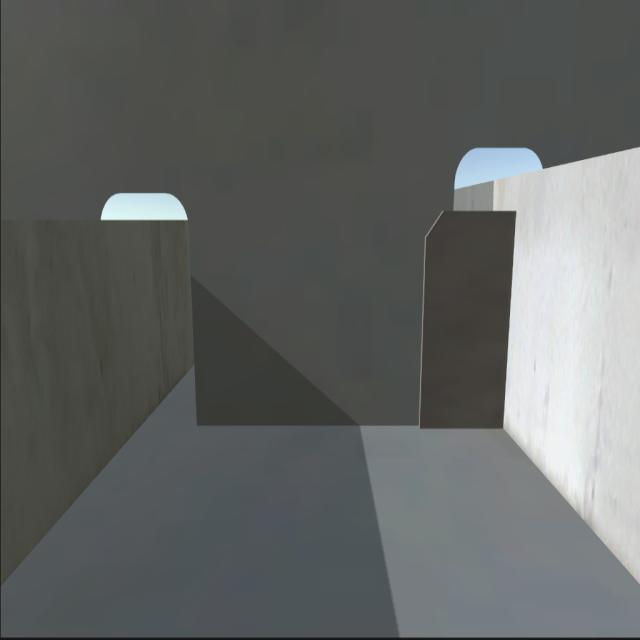fillet_yong_jeop_jang: (195, 413, 508, 432)
longi_yong_jeop_jang: (498, 209, 514, 428)
plate_CP03: (423, 202, 510, 424)
